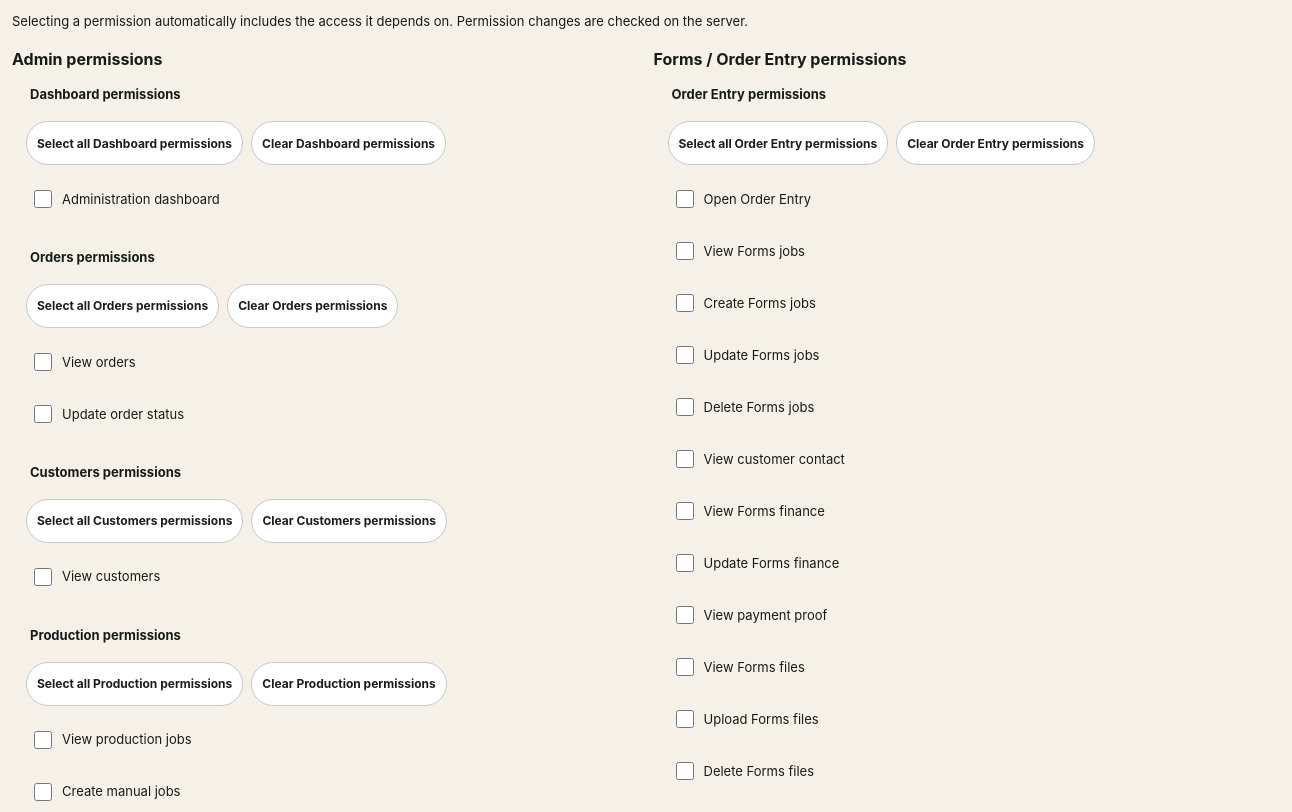
Test case: EmployeeAccessFields › selects a complete group without exposing role management
Click the button "Select all Production permissions" at (135, 684), box [26,662,243,706]
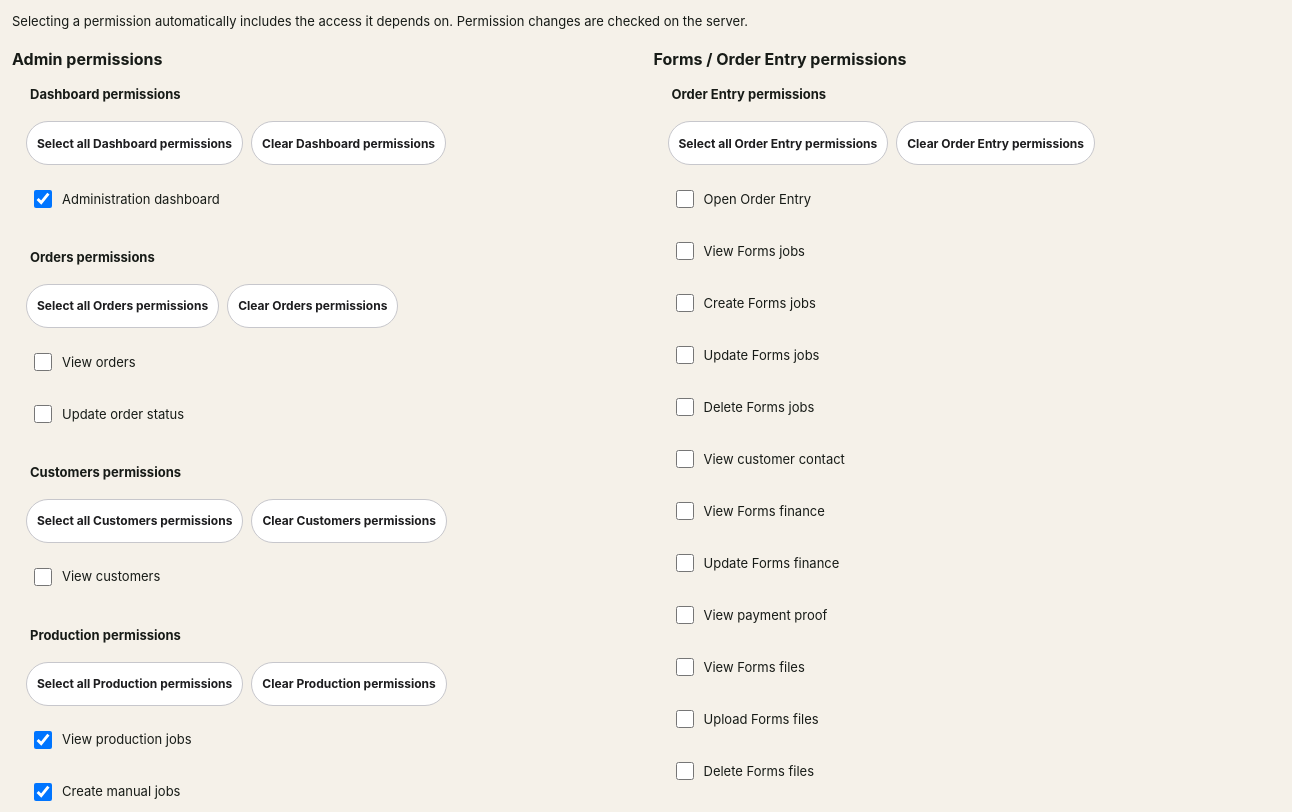
Expected: the checkbox labelled "View production jobs" is checked, [34,731,52,749]
Expected: the checkbox labelled "Administration dashboard" is checked, [34,190,52,208]
